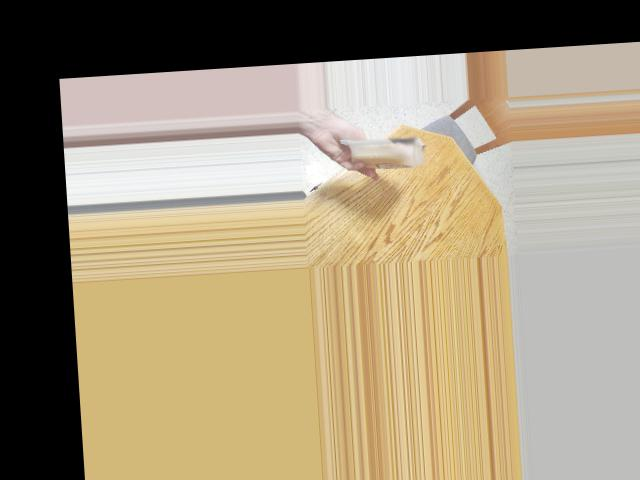cheese: (344, 119, 420, 174)
